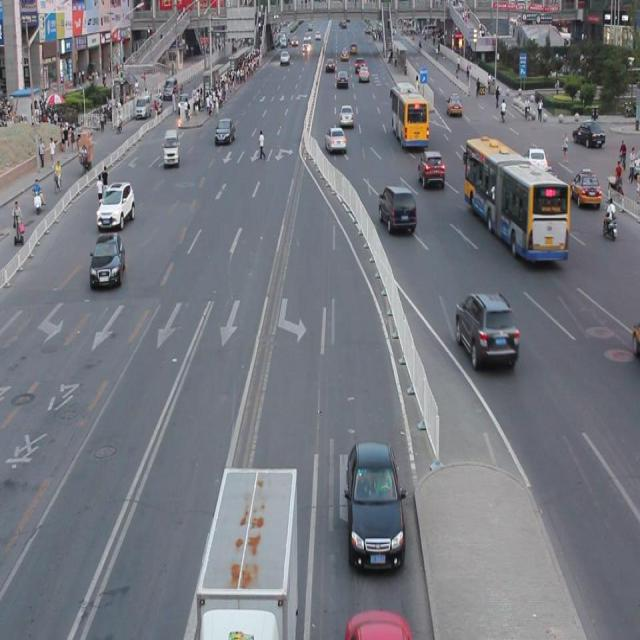bus: (197, 466, 298, 640)
car: (345, 440, 404, 569), (455, 289, 518, 369), (90, 232, 126, 290), (379, 184, 416, 234), (97, 180, 135, 228), (570, 170, 600, 205), (418, 150, 444, 188)
van: (465, 138, 568, 261)
